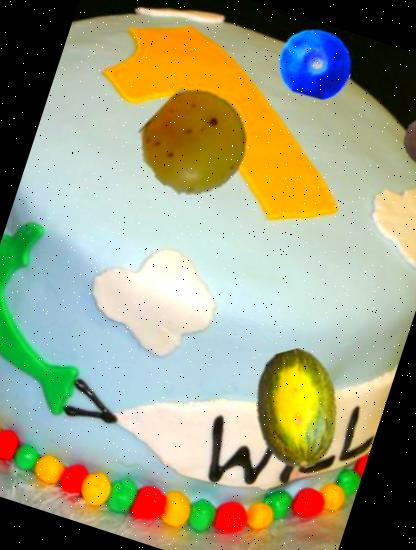Grape: (128, 76, 262, 210)
Huckleberry: (269, 17, 361, 110)
Melon: (221, 334, 372, 484)
Walnut: (395, 108, 416, 175)
